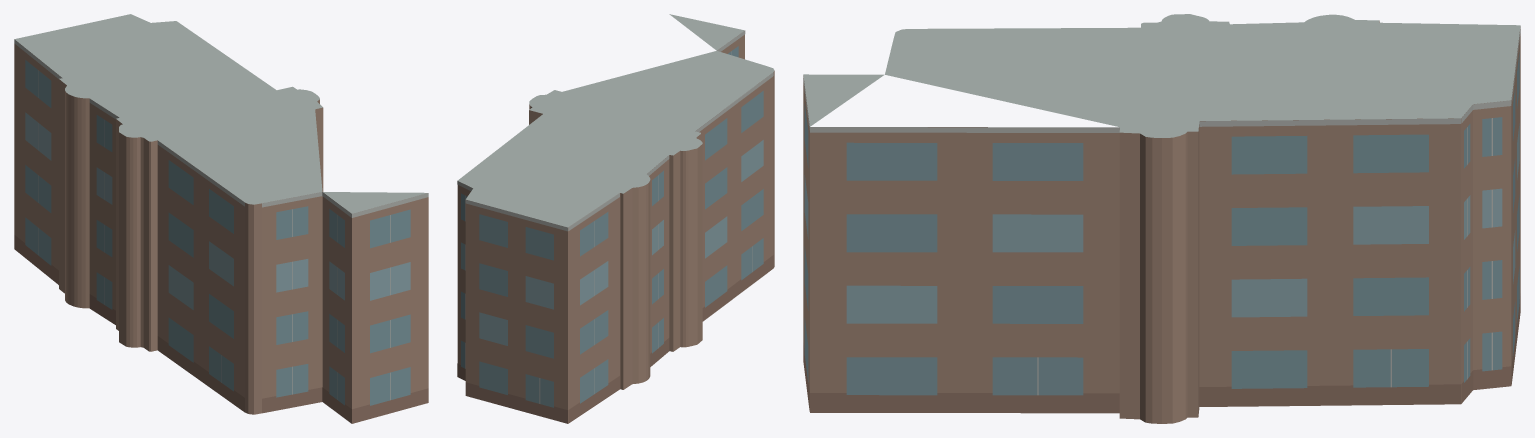
The model's file is survey-upis-32829638.glb.
3 views of the same model, side by side, from view 1: azimuth 30°, elevation 25°; view 2: azimuth 150°, elevation 25°; view 3: azimuth 270°, elevation 25° (orthographic). The views are drawn at different scales.
Visible parts, largest first — view 1: survey-upis-32829638.tmp; view 2: survey-upis-32829638.tmp; view 3: survey-upis-32829638.tmp.
Boxes of the visible parts, bbox=[...] form: survey-upis-32829638.tmp: bbox=[14, 14, 428, 423]; survey-upis-32829638.tmp: bbox=[457, 14, 774, 423]; survey-upis-32829638.tmp: bbox=[803, 14, 1520, 423].
Size of the model in its own units: 11.36 by 12.2 by 27.75.
